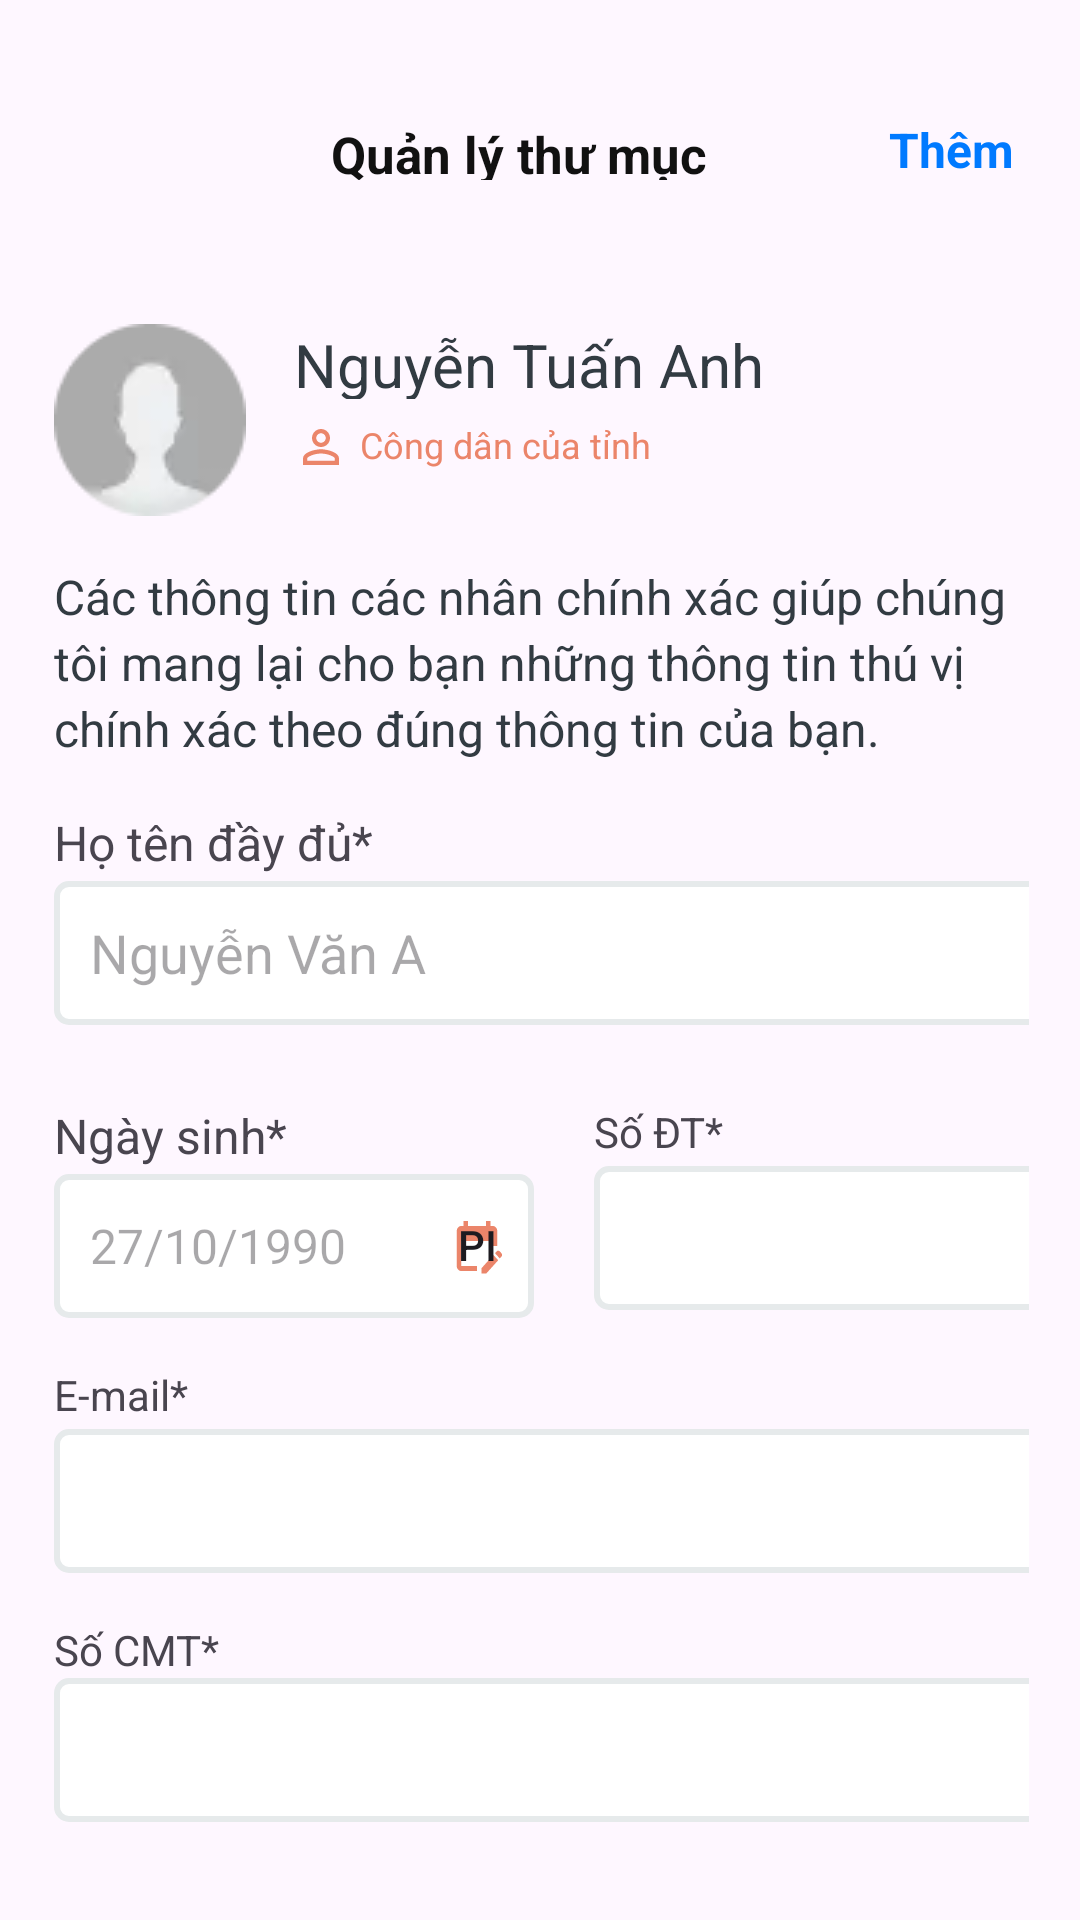

Icon bounding boxes for this 1080×1920 phone screenshot, format [x1, y1, x2, y2]:
person: [54, 324, 246, 516], [303, 429, 339, 465]
